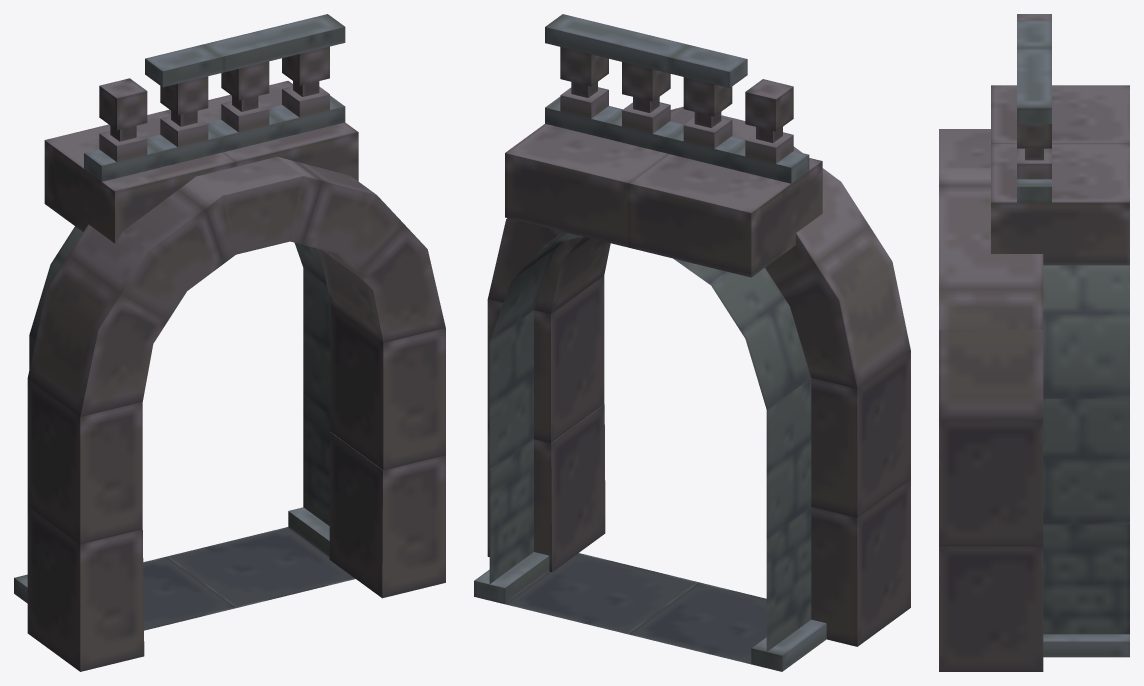
The model's file is arch_medium_1_purple.fbx.
3 views of the same model, side by side, from view 1: azimuth 30°, elevation 25°; view 2: azimuth 150°, elevation 25°; view 3: azimuth 270°, elevation 25° (orthographic). The views are drawn at different scales.
Parts seen in each view (by area): view 1: arch_medium_1_purple; view 2: arch_medium_1_purple; view 3: arch_medium_1_purple.
Part boxes in pixels (bbox=[...]): arch_medium_1_purple: bbox=[14, 14, 445, 671]; arch_medium_1_purple: bbox=[474, 14, 910, 671]; arch_medium_1_purple: bbox=[939, 14, 1129, 671].
Bounding box in the file's own units: 48 × 68 × 22.
